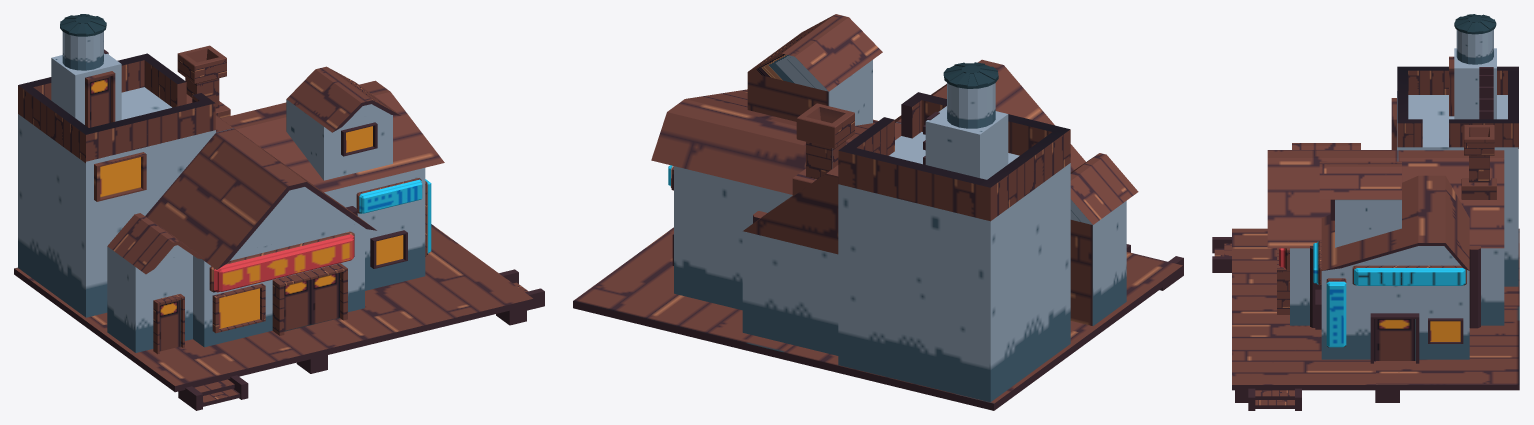
The model's file is Casa de Madeira.v1.2108.Anibal.fbx.
3 views of the same model, side by side, from view 1: azimuth 30°, elevation 25°; view 2: azimuth 150°, elevation 25°; view 3: azimuth 270°, elevation 25° (orthographic). The views are drawn at different scales.
Visible parts, largest first — view 1: Casa de madeira; view 2: Casa de madeira; view 3: Casa de madeira.
Part boxes in pixels (<box>): Casa de madeira: <box>14,14,544,410</box>; Casa de madeira: <box>573,14,1183,410</box>; Casa de madeira: <box>1212,14,1519,410</box>.
Size of the model in its own units: 1743 by 1370 by 1224.
